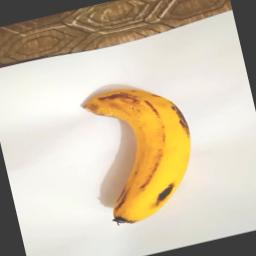Banana Unripe: (70, 68, 208, 230)
